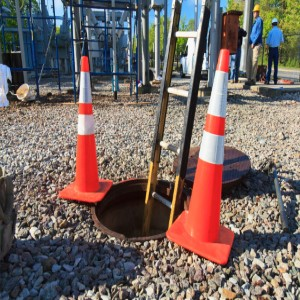traffic cone: (165, 48, 234, 266), (59, 55, 114, 203)
